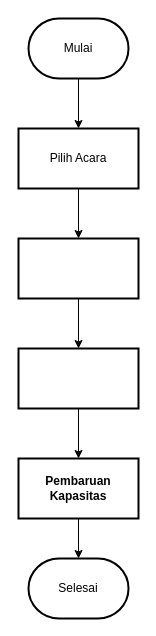
Image size: 156x636. Some labels were removed from this diagram. Here are the shapes that lost their labels. From the top down, the box of each, then its label:
(17, 237, 139, 299): Membuat Pesanan
(17, 347, 139, 409): mengirim permintaan ke endpoint /bookings/create
